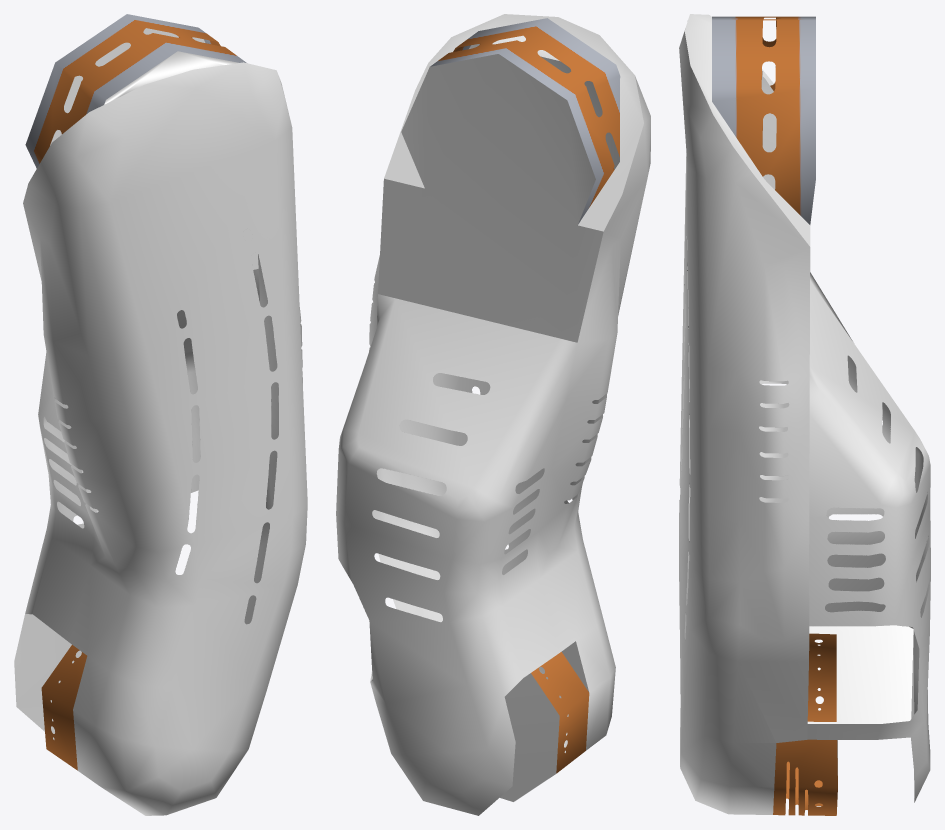
The model's file is lj3_Right.dae.
The picture shows the model from 3 angles, left to right: view 1: azimuth 30°, elevation 25°; view 2: azimuth 150°, elevation 25°; view 3: azimuth 270°, elevation 25°; orthographic projection. The views are drawn at different scales.
Parts seen in each view (by area): view 1: Cylinder; view 2: Cylinder; view 3: Cylinder.
Boxes of the visible parts, x1=… form: Cylinder: x1=14, y1=14, x2=307, y2=815; Cylinder: x1=336, y1=14, x2=650, y2=815; Cylinder: x1=679, y1=14, x2=930, y2=815.
Size of the model in its own units: 0.2062 by 0.1661 by 0.57.
Materials: 1 (1 with a texture image).
